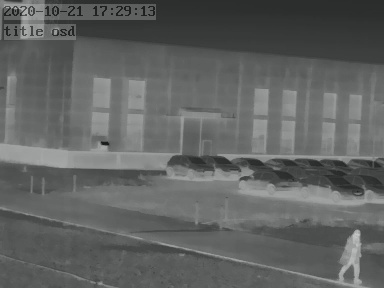person: (339, 227, 363, 283)
vehicle: (302, 171, 362, 199), (238, 170, 302, 191), (165, 153, 212, 178), (204, 153, 242, 177), (350, 173, 382, 199), (232, 155, 269, 171), (262, 155, 296, 169), (348, 156, 380, 170), (295, 155, 324, 169), (318, 156, 347, 169)
